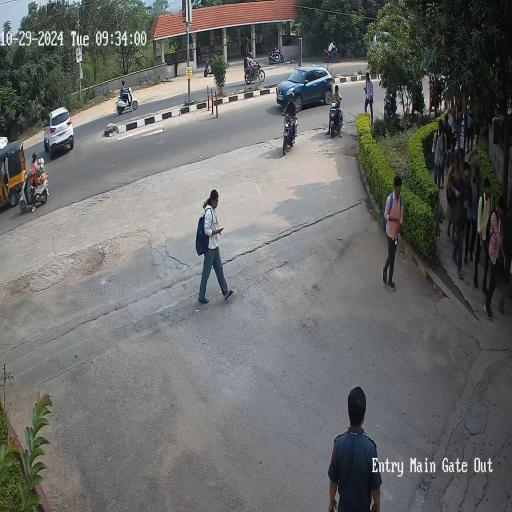helmet: (283, 90, 310, 130)
no helmet: (331, 81, 353, 105)
triple riding: (240, 50, 270, 86)
